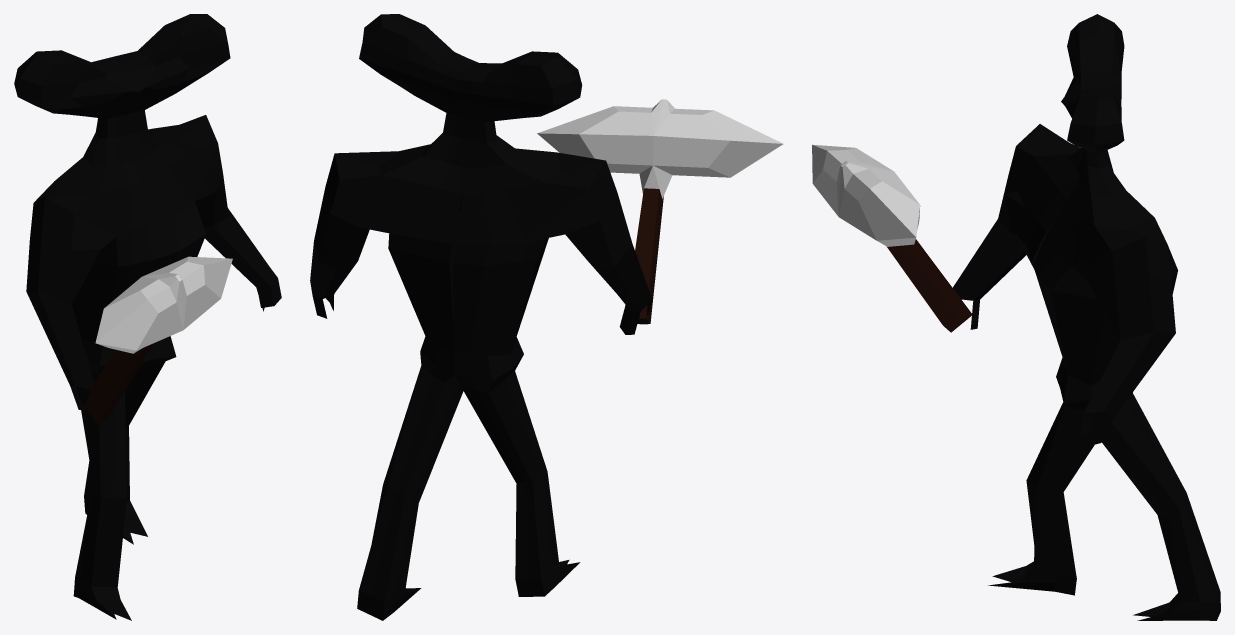
Rendered from GiantWalk3.obj.
3 renders of one model, left to right at view 1: azimuth 30°, elevation 25°; view 2: azimuth 150°, elevation 25°; view 3: azimuth 270°, elevation 25°, orthographic. The views are drawn at different scales.
Parts seen in each view (by area): view 1: Cube; view 2: Cube; view 3: Cube.
Part boxes in pixels (<box>): Cube: <box>14,14,281,620</box>; Cube: <box>310,14,783,620</box>; Cube: <box>812,14,1220,620</box>.
Bounding box in the file's own units: 18.3 × 29.75 × 19.8.
